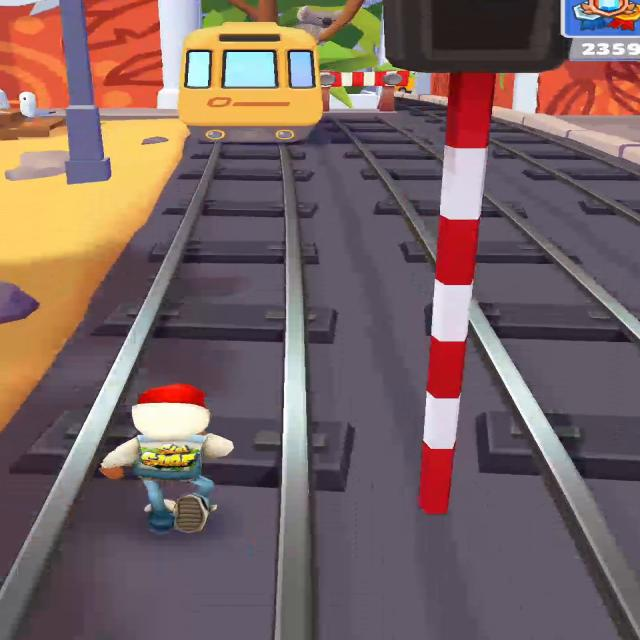block pillar: (283, 0, 415, 112)
train: (176, 20, 329, 144)
